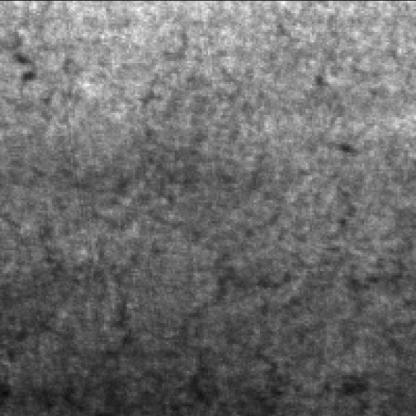crazing: (98, 152, 312, 414)
